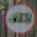Heavy Vehicles: (4, 2, 36, 33)
